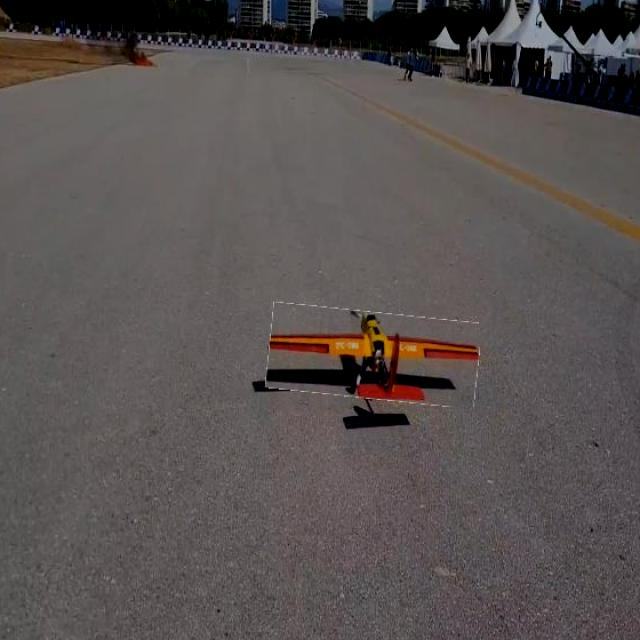plane: (263, 303, 480, 400)
